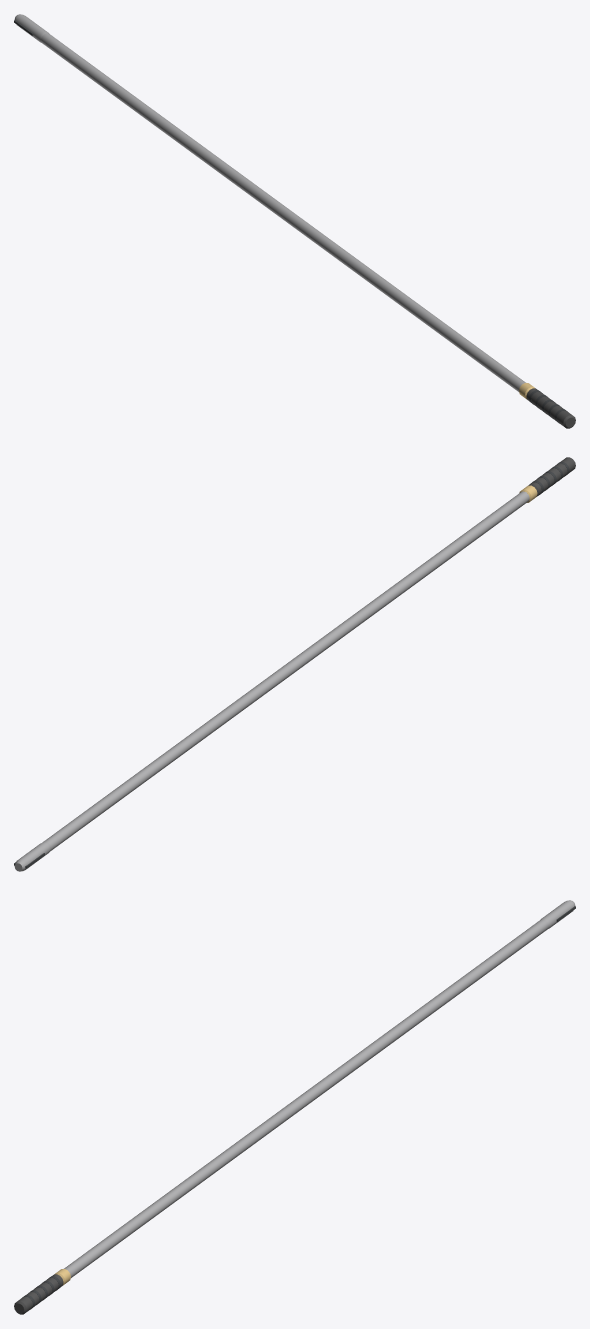
The model's file is cleaning_rod.glb.
3 renders of one model, top to bottom at view 1: azimuth 30°, elevation 25°; view 2: azimuth 150°, elevation 25°; view 3: azimuth 330°, elevation 25°, orthographic.
Parts seen in each view (by area): view 1: body; view 2: body; view 3: body.
Part boxes in pixels (x1=…): body: x1=14, y1=14, x2=575, y2=428; body: x1=14, y1=457, x2=575, y2=871; body: x1=14, y1=900, x2=575, y2=1314.
Bounding box in the file's own units: 0.0082 × 0.0082 × 0.6.
